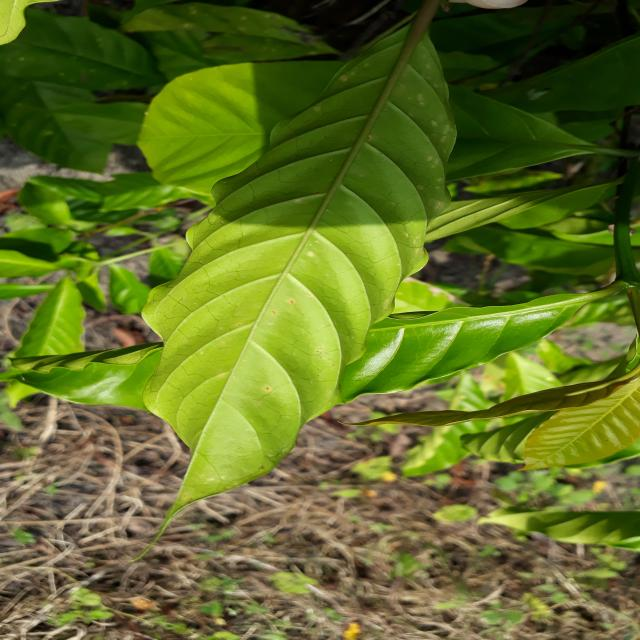Enfermedad-Roya: (139, 27, 449, 515)
